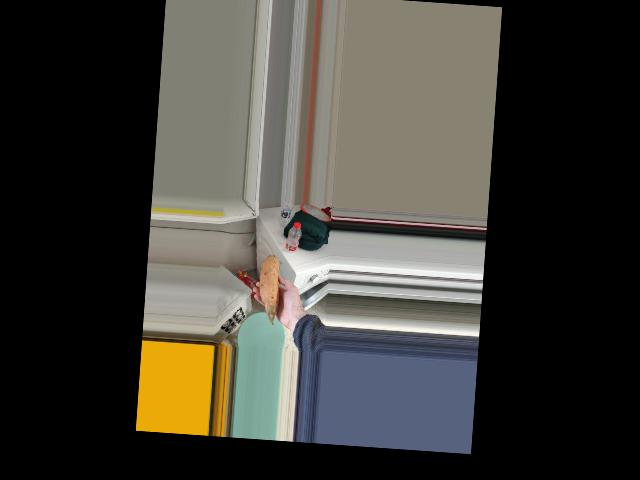sweet_potato: (257, 254, 283, 322)
